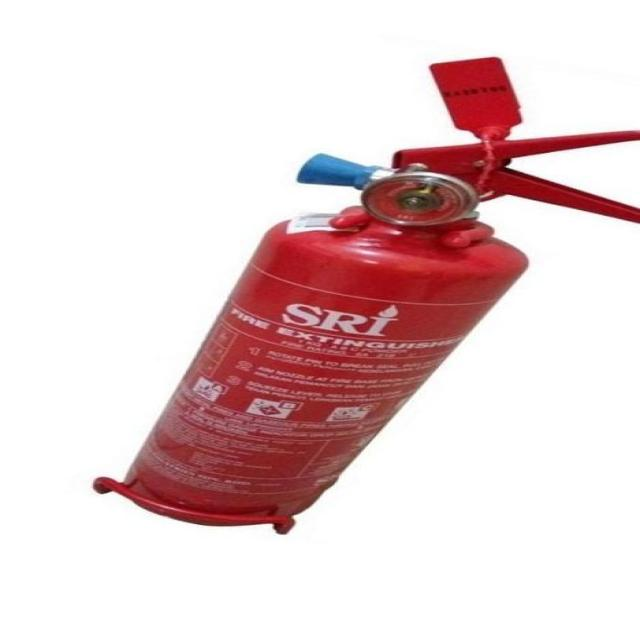fire_extinguisher: (108, 51, 639, 533)
